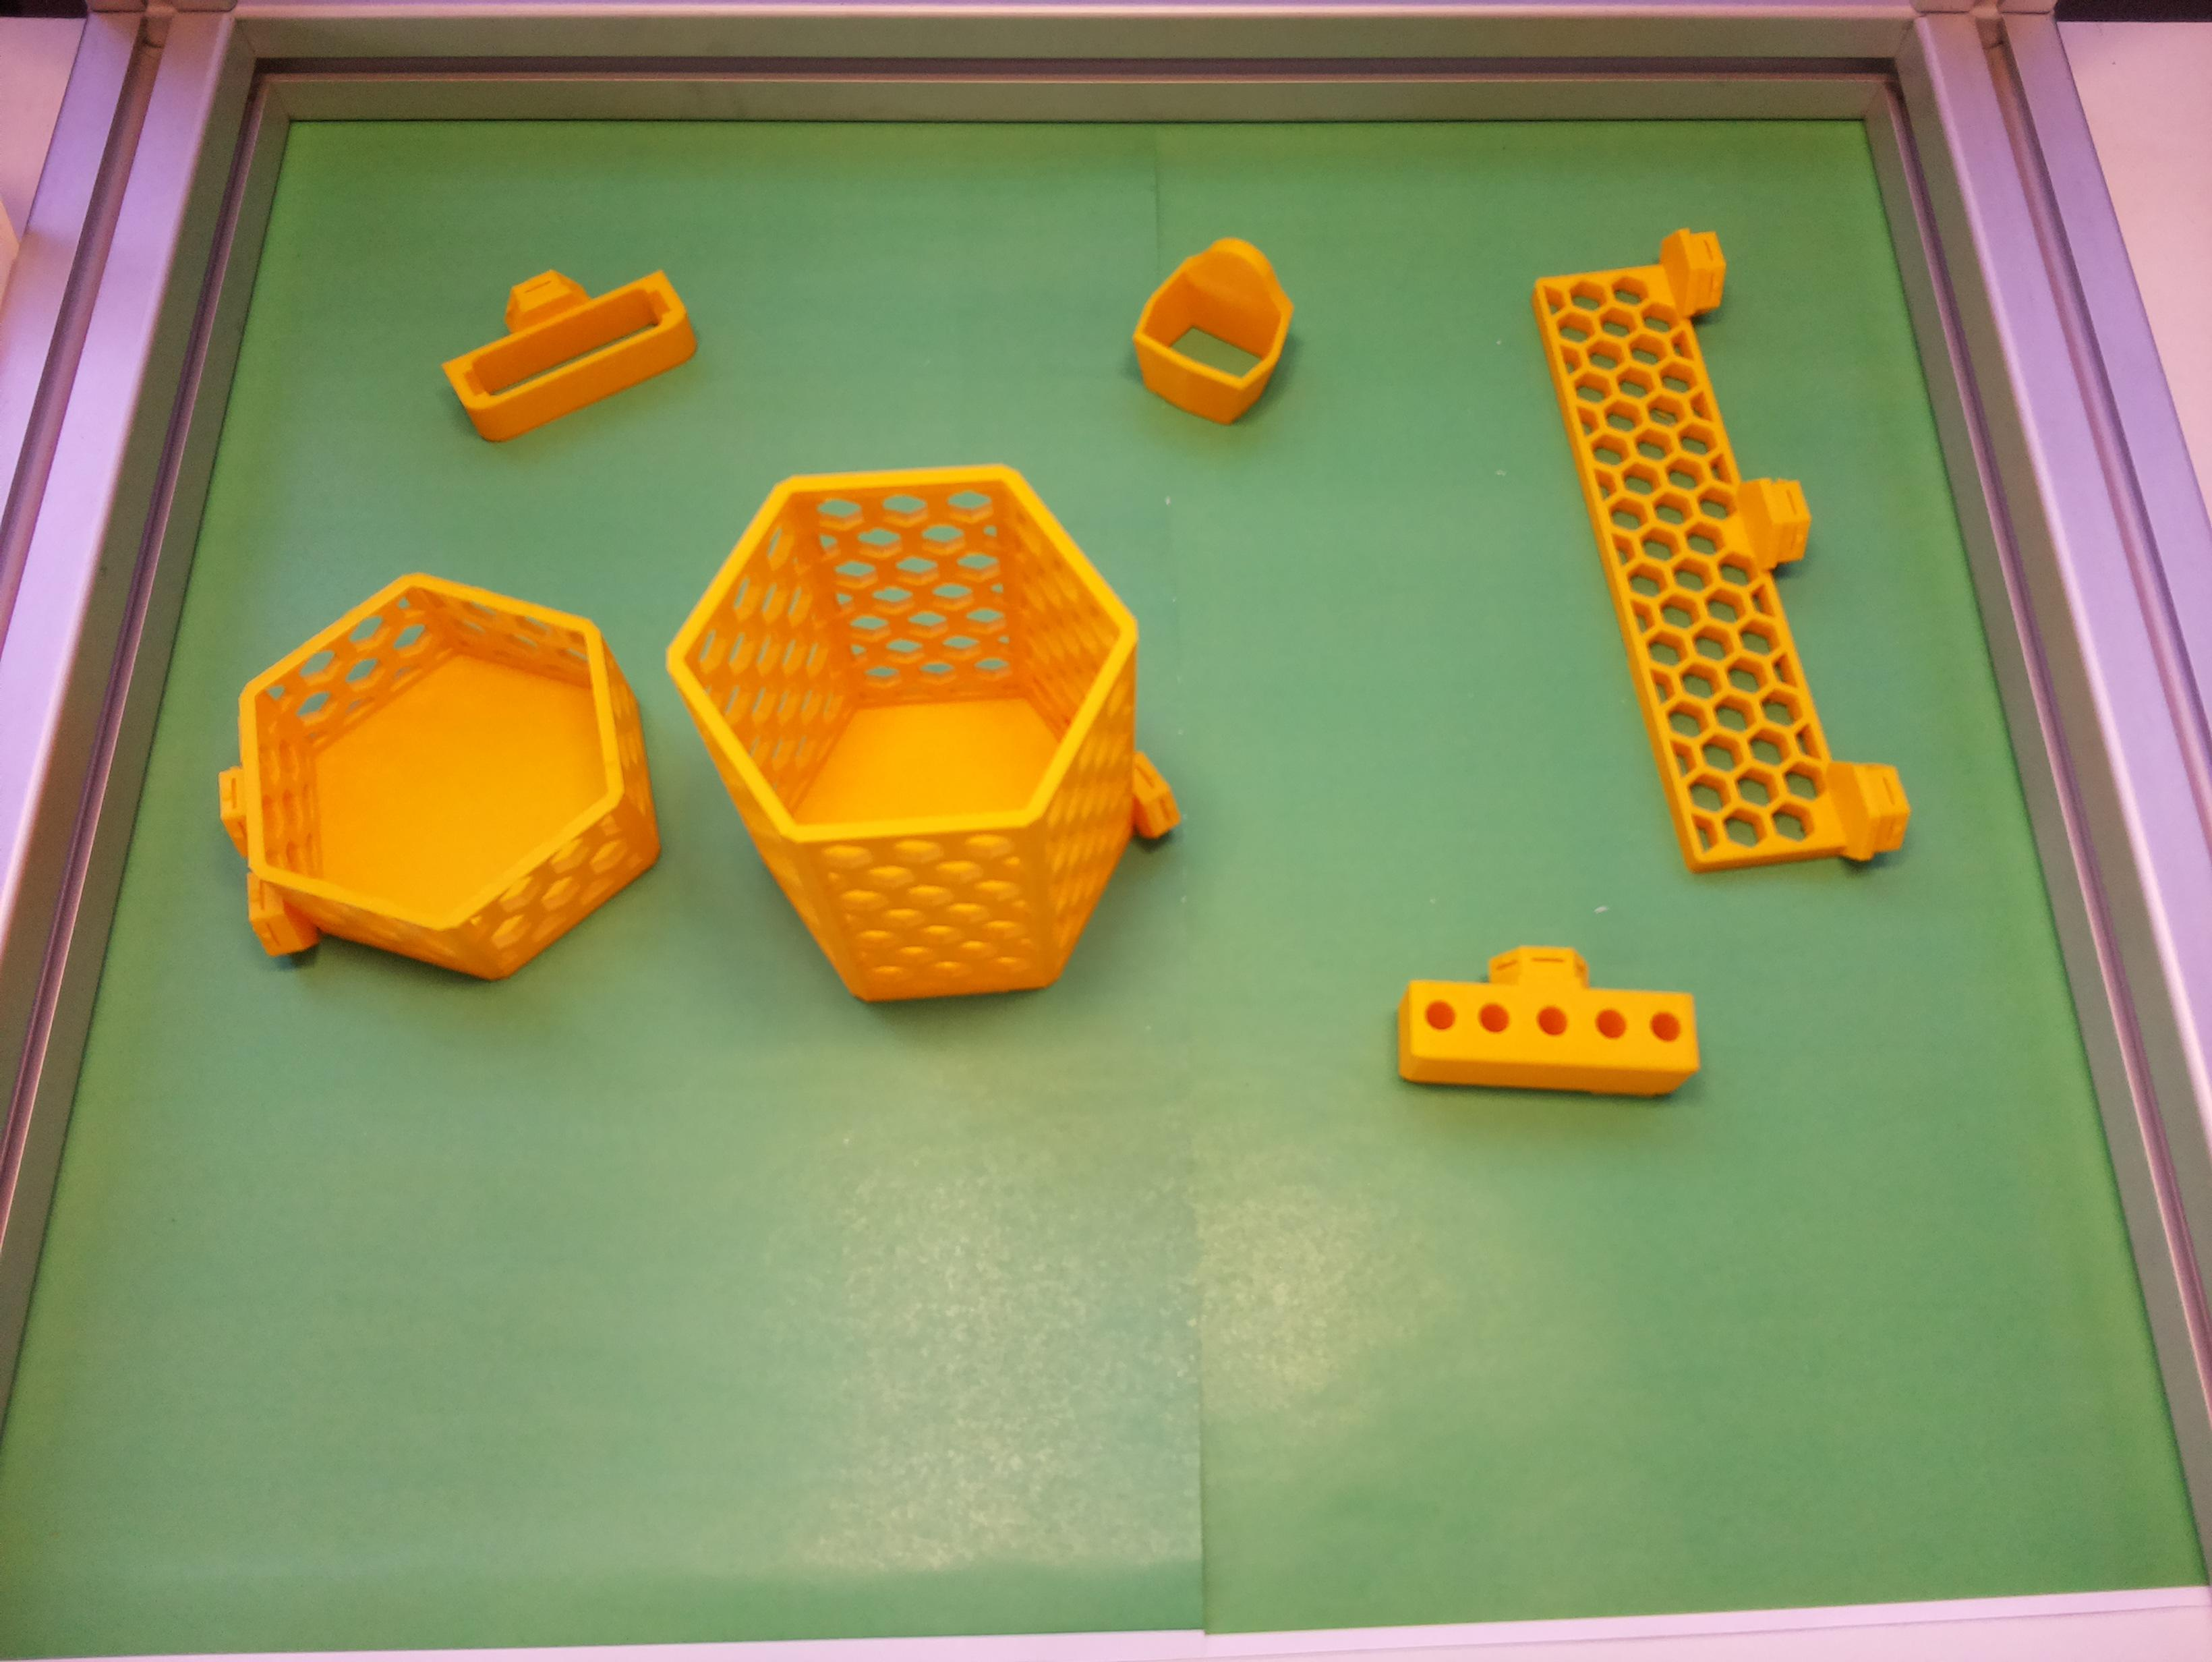bit_holder: (1398, 944, 1700, 1098)
bottle_holder: (210, 564, 674, 986)
cup_holder: (597, 361, 1276, 1077)
cutter_holder: (424, 227, 705, 452)
scissor_holder: (1110, 215, 1323, 438)
tool_holder: (1494, 218, 1920, 915)
